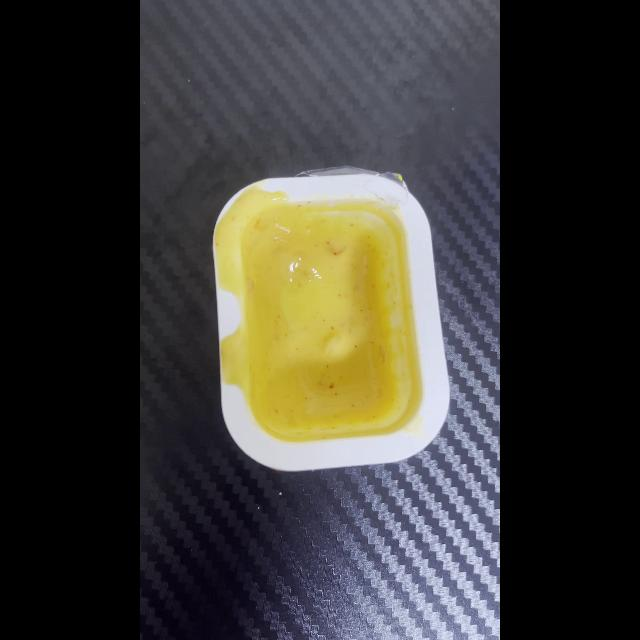dirty: (219, 181, 449, 474)
